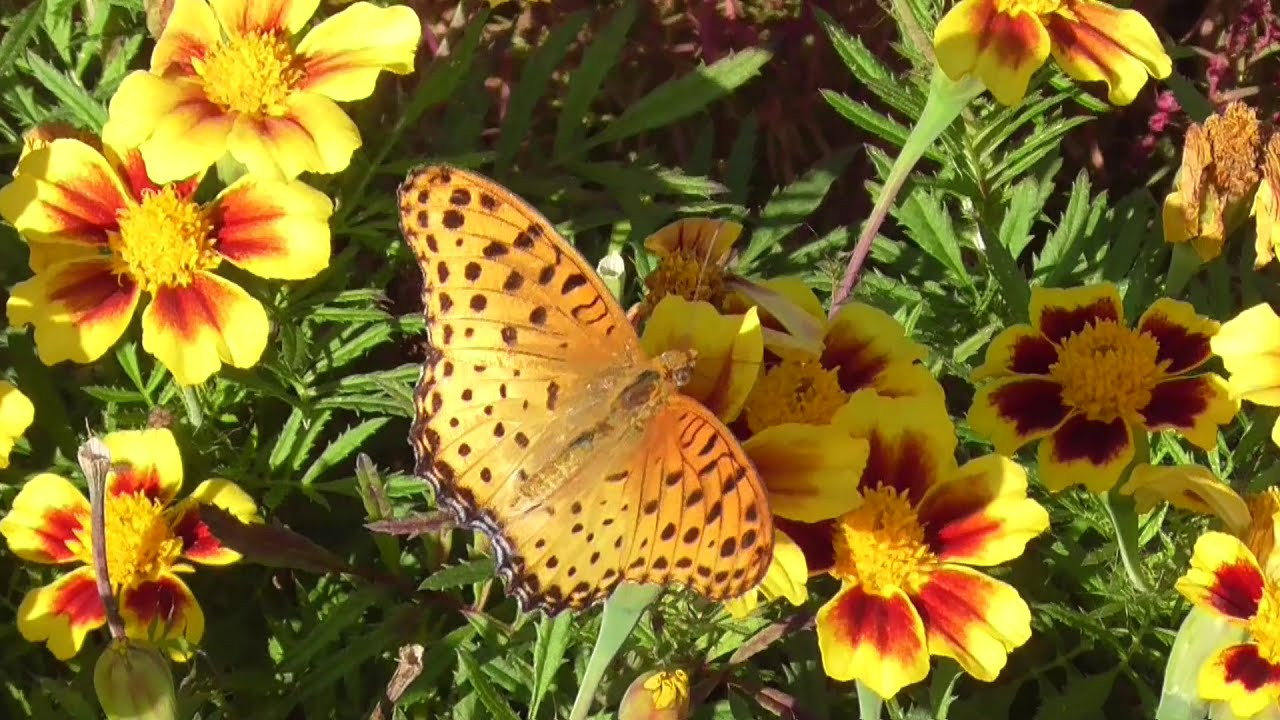Argyreus hyperbius: (393, 156, 795, 620)
butterfly: (395, 158, 797, 622)
